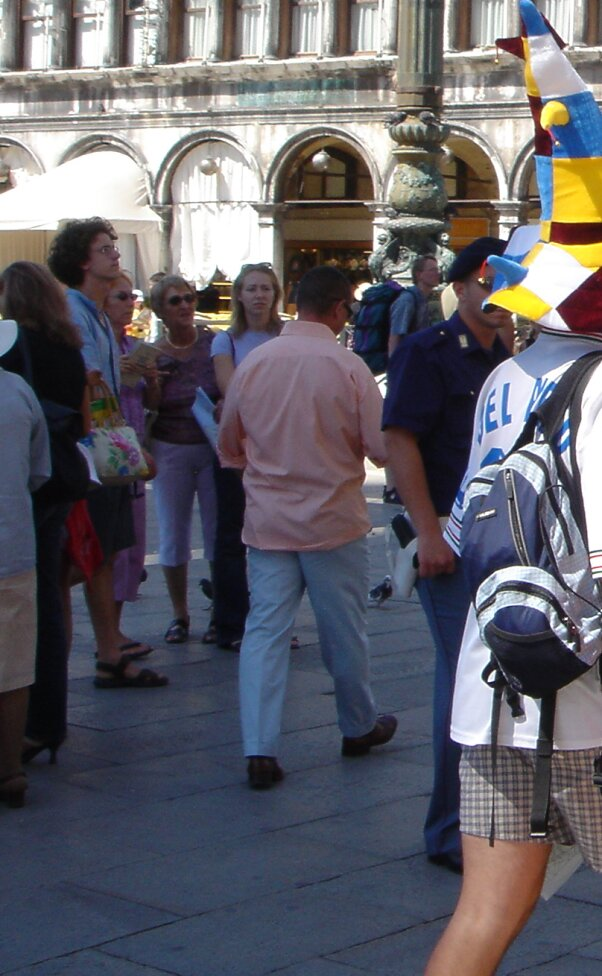person: (455, 159, 602, 976), (224, 271, 407, 786)
